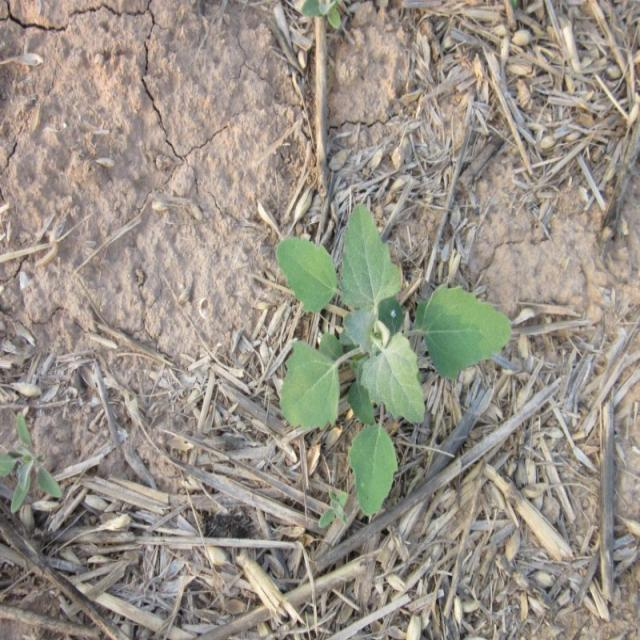ca: (280, 210, 515, 514)
